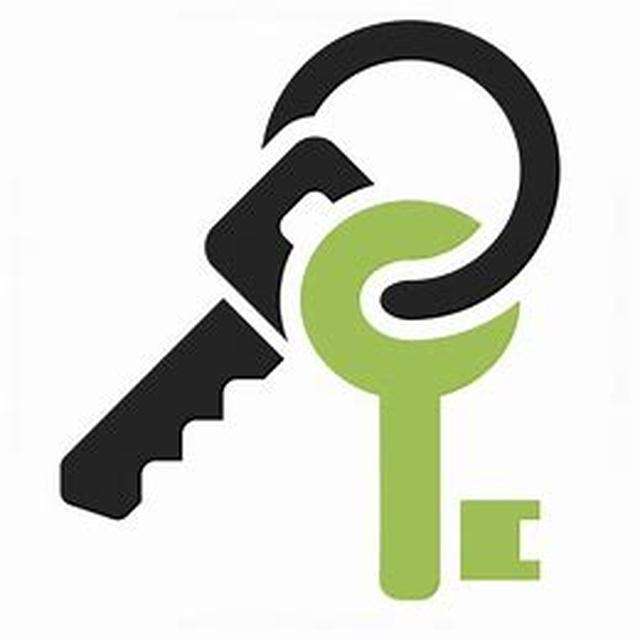key: (61, 124, 378, 556), (258, 193, 522, 640)
